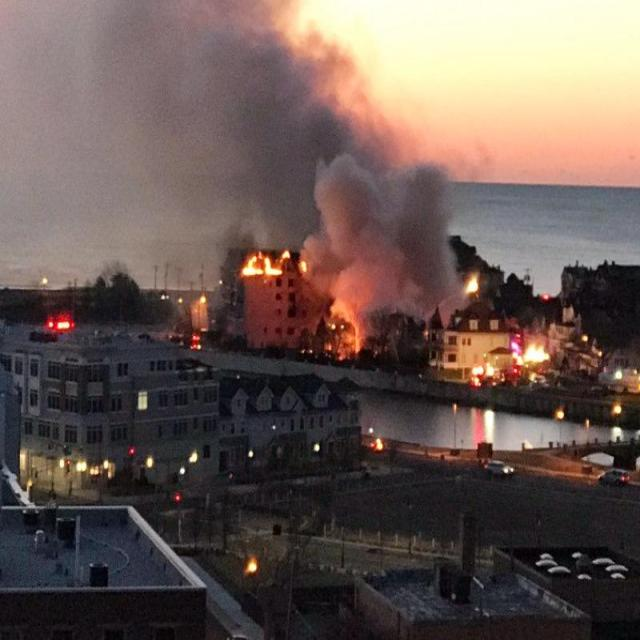Fire: (230, 234, 388, 368)
